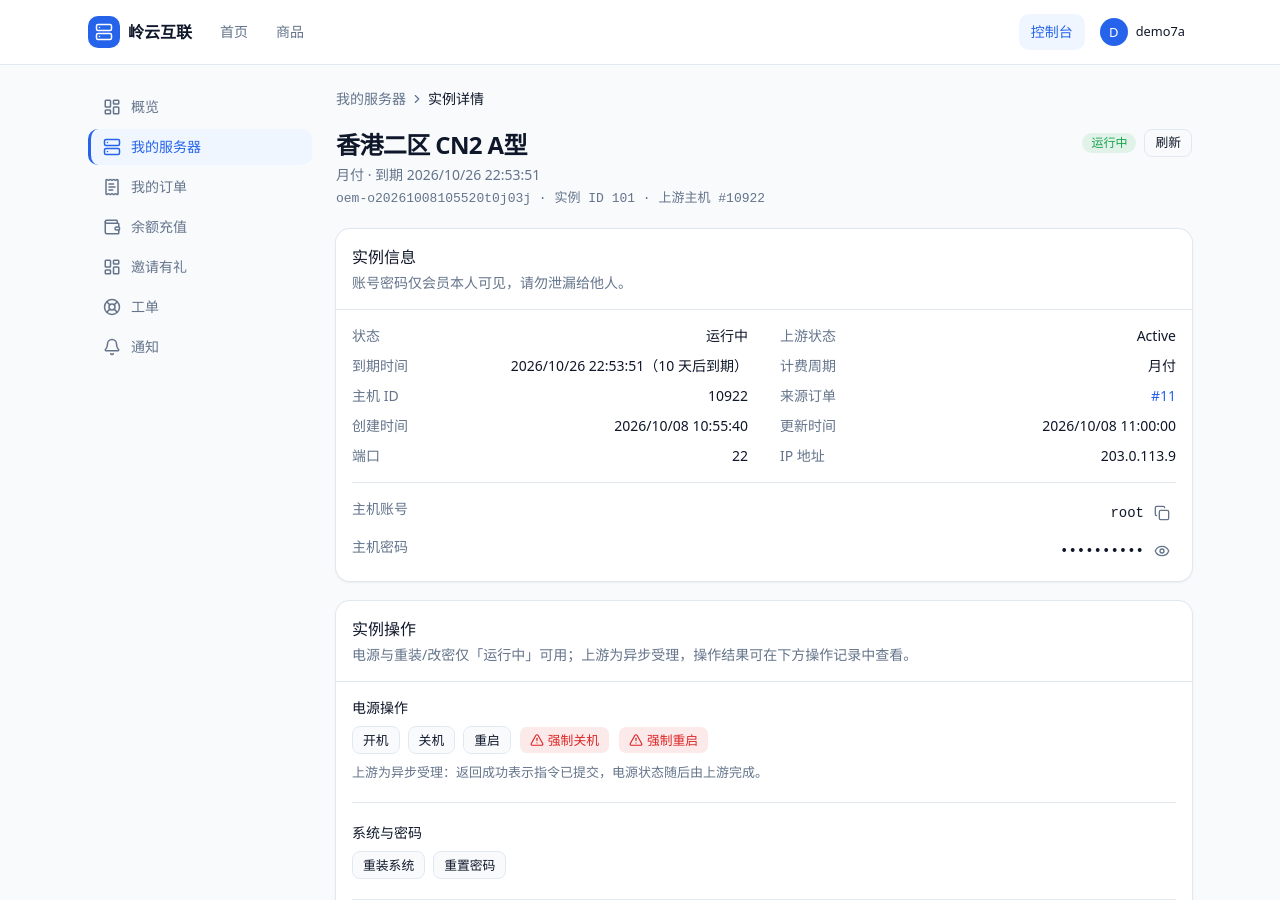
it: 会员区 · 实例详情 › 密码默认遮蔽，点击后可显示明文并可再次隐藏
Expected: the heading "香港二区 CN2 A型" is shown, [336,128,527,161]
Expected: the text "••••••••••" is shown, [1060,541,1144,561]
Click the button named "显示密码".
click(1162, 551)  # box [1148,537,1176,565]
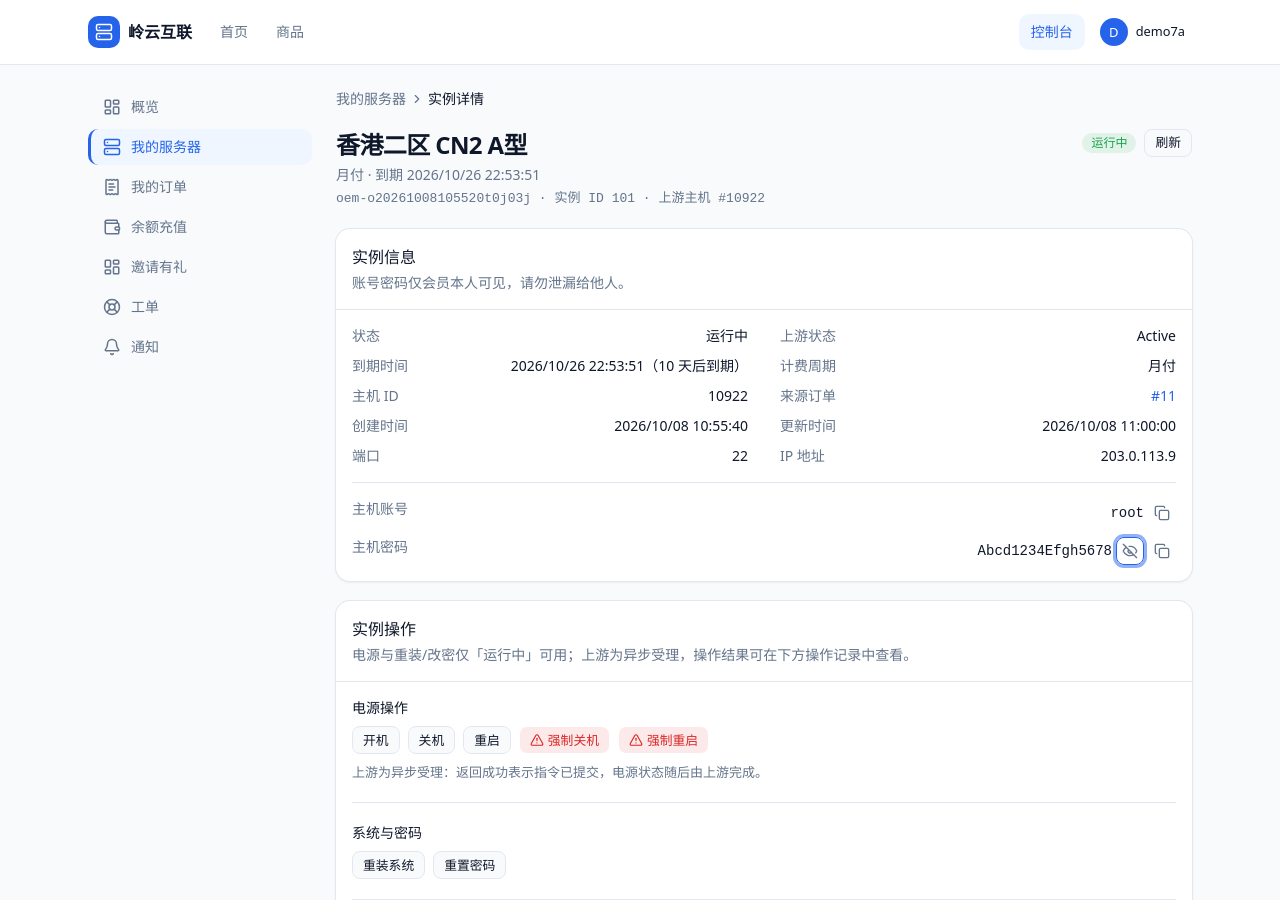
Result: the text "Abcd1234Efgh5678" is shown at [978,541,1112,561]
Click the button named "隐藏密码".
click(1130, 551)  # box [1116,537,1144,565]
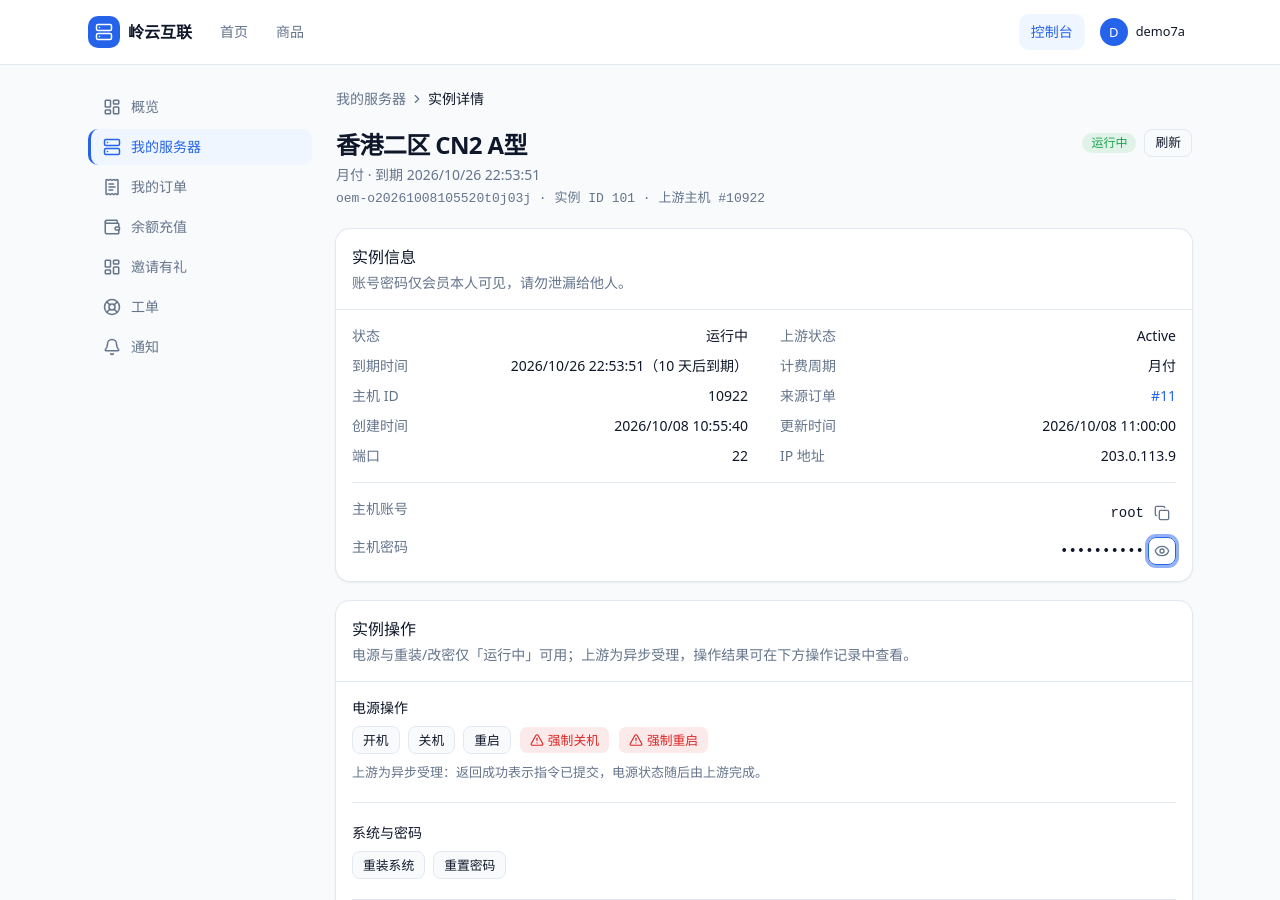
Result: the text "Abcd1234Efgh5678" is gone
